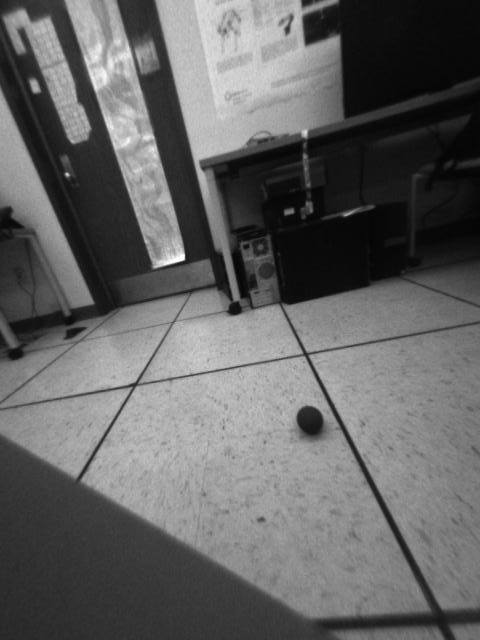dogtoy: (293, 398, 332, 440)
